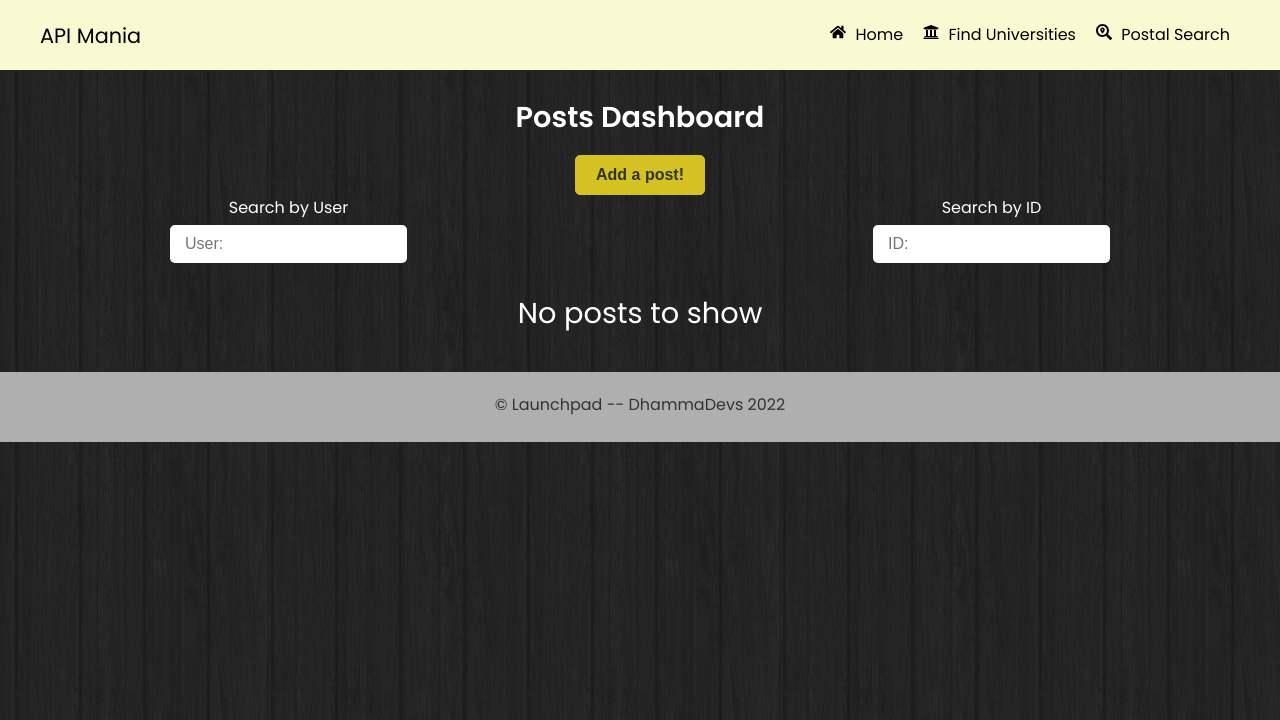
Test: Navbar › should click Find Universities
What coordinates should you click on to do the following:
click the link "Find Universities"
I would click on:
 (1000, 35)
Its box is top-left (923, 23), bottom-right (1076, 46).
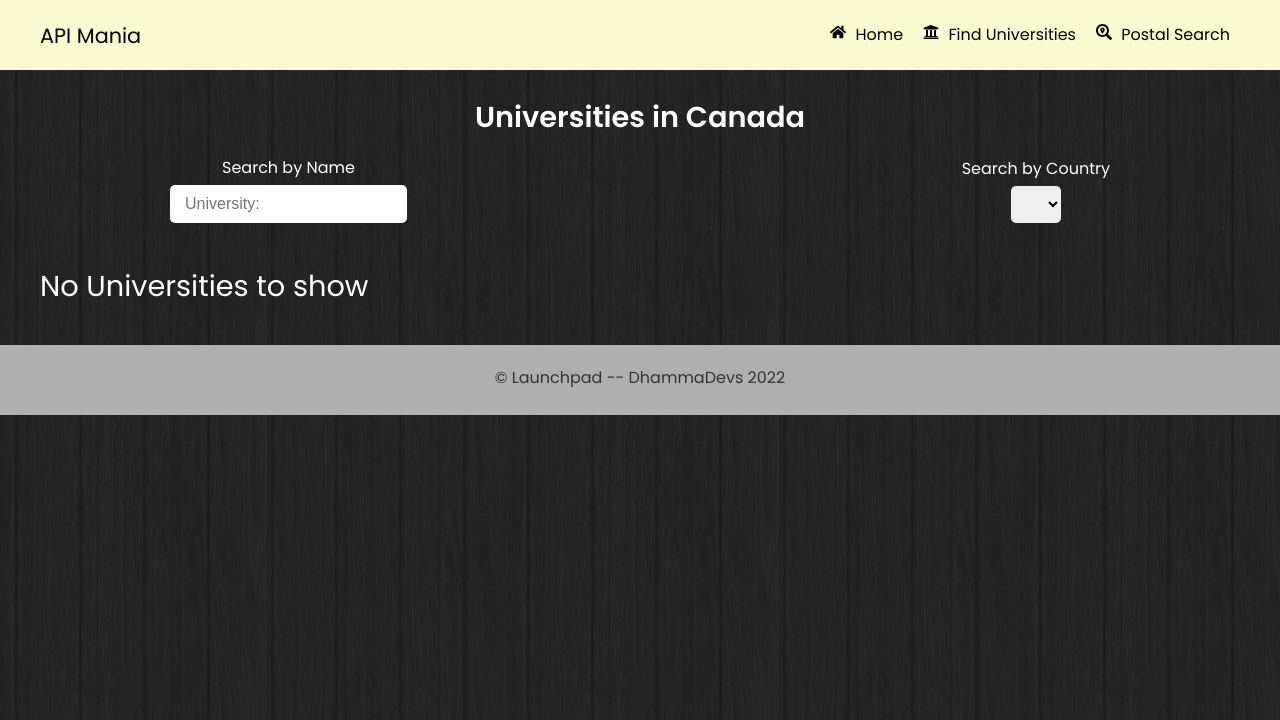
Expected: the heading "Universities in Canada" is shown, top-left (475, 97), bottom-right (805, 137)
